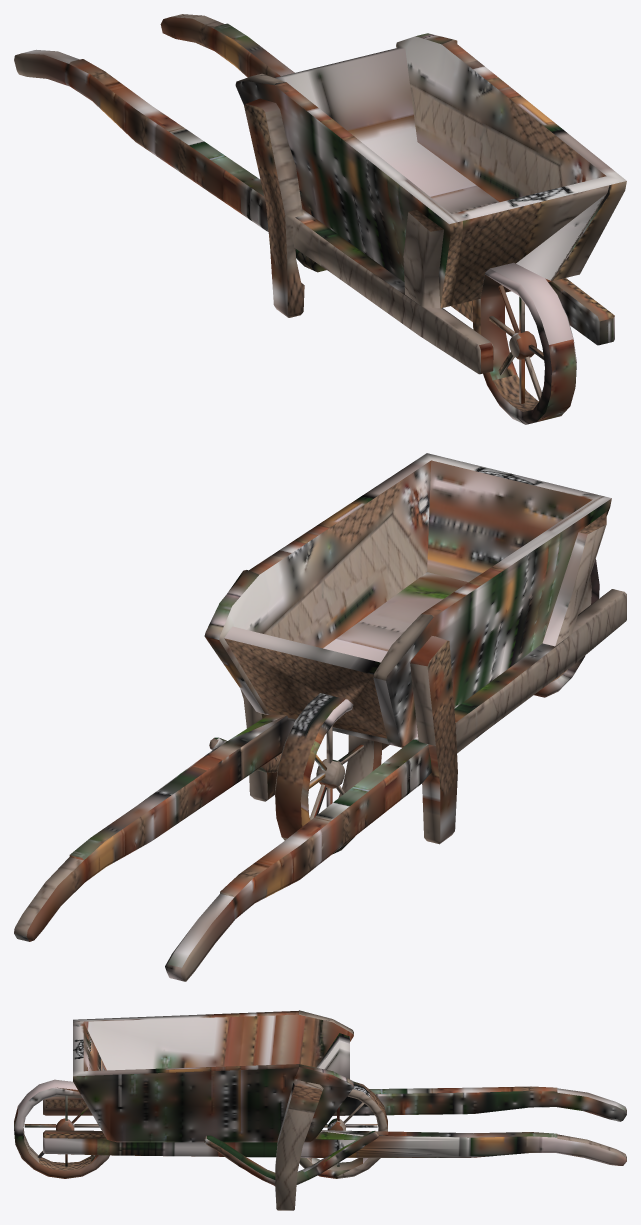
Rendered from carretilla.fbx.
3 views of the same model, one above another, from view 1: azimuth 30°, elevation 25°; view 2: azimuth 150°, elevation 25°; view 3: azimuth 270°, elevation 25° (orthographic). The views are drawn at different scales.
Visible parts, largest first — view 1: mesh_rep_0_ori_repair; view 2: mesh_rep_0_ori_repair; view 3: mesh_rep_0_ori_repair.
Boxes of the visible parts, x1=… form: mesh_rep_0_ori_repair: x1=14, y1=14, x2=626, y2=424; mesh_rep_0_ori_repair: x1=14, y1=453, x2=626, y2=981; mesh_rep_0_ori_repair: x1=14, y1=1010, x2=626, y2=1210.
Size of the model in its own units: 157 by 165 by 633.
